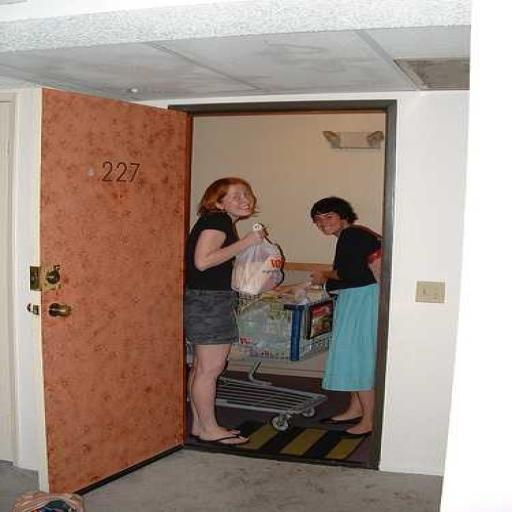shopping_cart: (226, 289, 335, 430)
